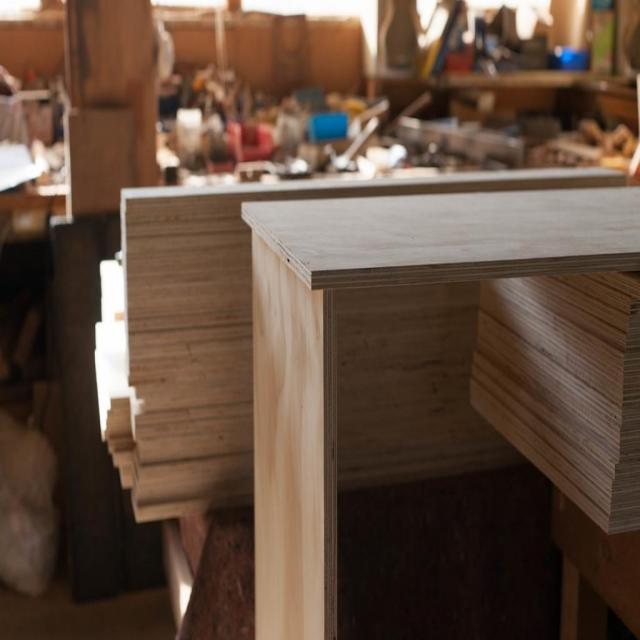Table: (203, 173, 618, 636)
